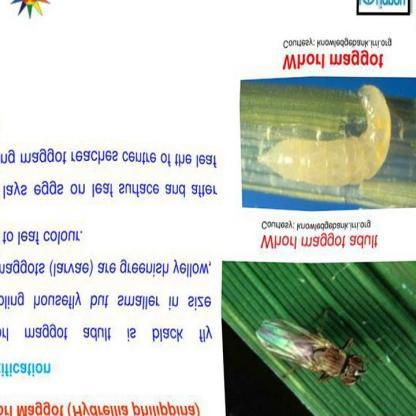whorl-maggot: (251, 86, 394, 187)
